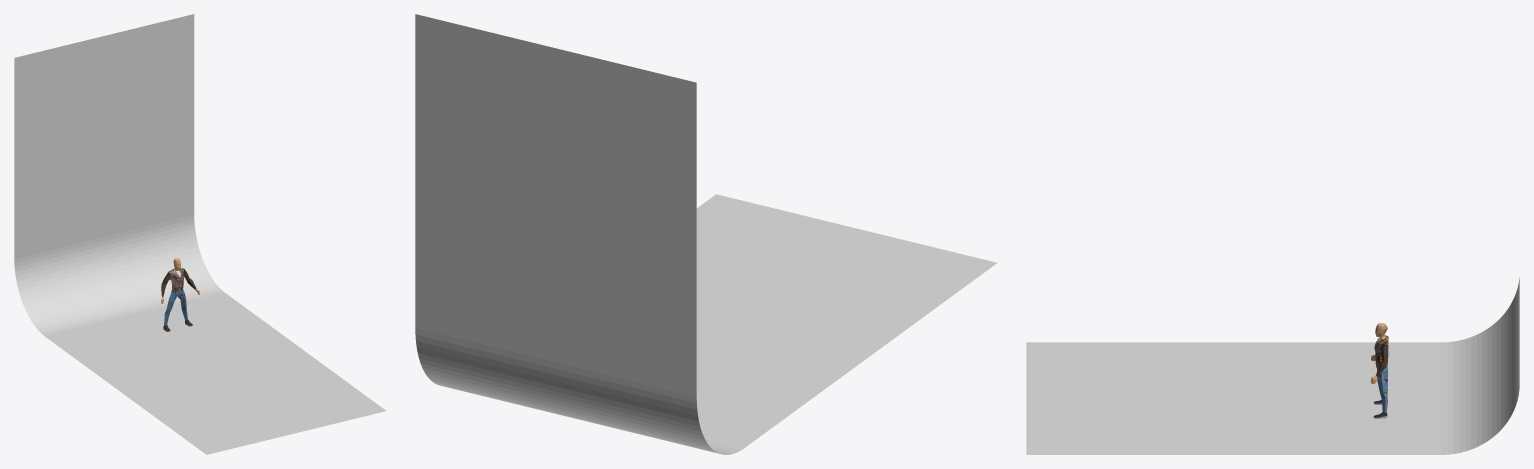
The picture shows the model from 3 angles, left to right: view 1: azimuth 30°, elevation 25°; view 2: azimuth 150°, elevation 25°; view 3: azimuth 270°, elevation 25°; orthographic projection. The views are drawn at different scales.
Parts seen in each view (by area): view 1: Plane, BASE_Low_Poly_Man_Cube.001; view 2: Plane; view 3: Plane, BASE_Low_Poly_Man_Cube.001.
Boxes of the visible parts, x1,y1,x2,y2 form: Plane: (14,14,385,454); BASE_Low_Poly_Man_Cube.001: (161,258,199,331); Plane: (415,14,996,454); Plane: (1026,277,1519,454); BASE_Low_Poly_Man_Cube.001: (1371,323,1388,418).
Bounding box in the file's own units: 1589 × 2164 × 2944.
